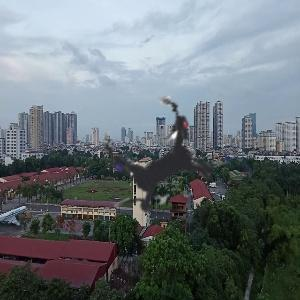drone: (50, 59, 268, 277)
